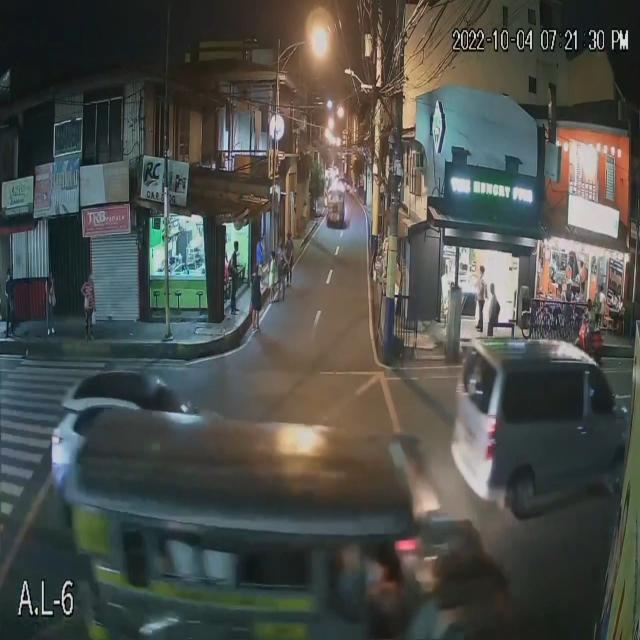Full-Faced: (584, 299, 594, 316)
